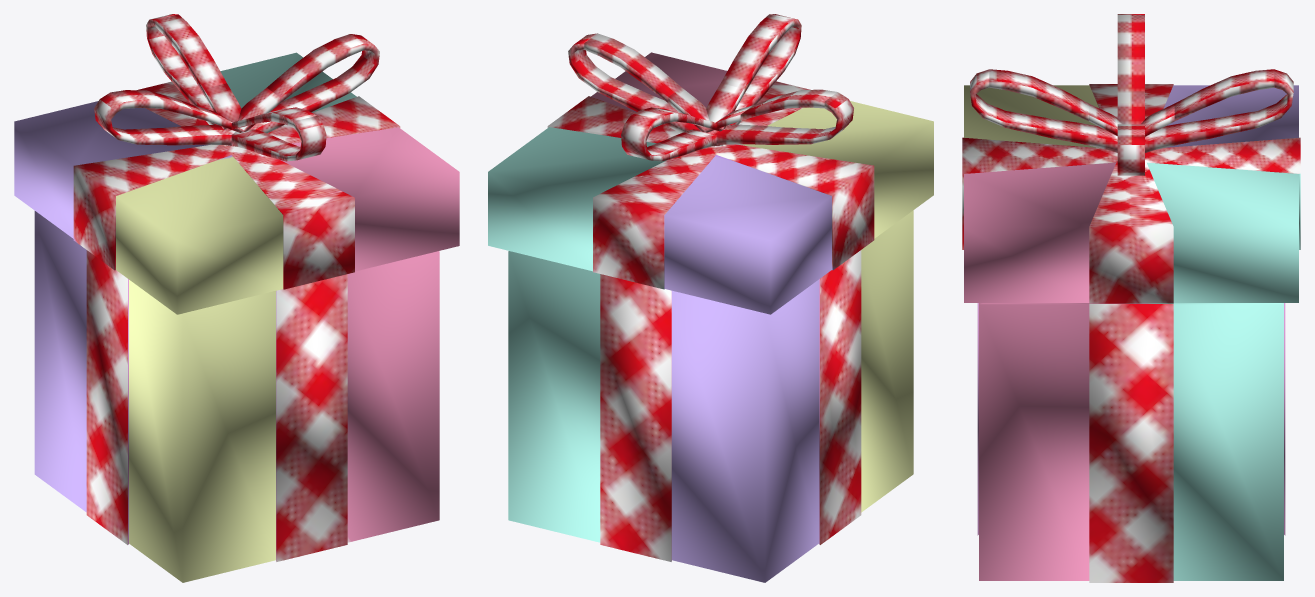
3 views of the same model, side by side, from view 1: azimuth 30°, elevation 25°; view 2: azimuth 150°, elevation 25°; view 3: azimuth 270°, elevation 25° (orthographic). The views are drawn at different scales.
Parts seen in each view (by area): view 1: box; view 2: box; view 3: box.
Part boxes in pixels (left/top/right/bottom): box: left=14, top=14, right=459, bottom=582; box: left=488, top=14, right=933, bottom=582; box: left=962, top=14, right=1300, bottom=582.
Size of the model in its own units: 222 by 321 by 222.
Materials: 1 (1 with a texture image).
